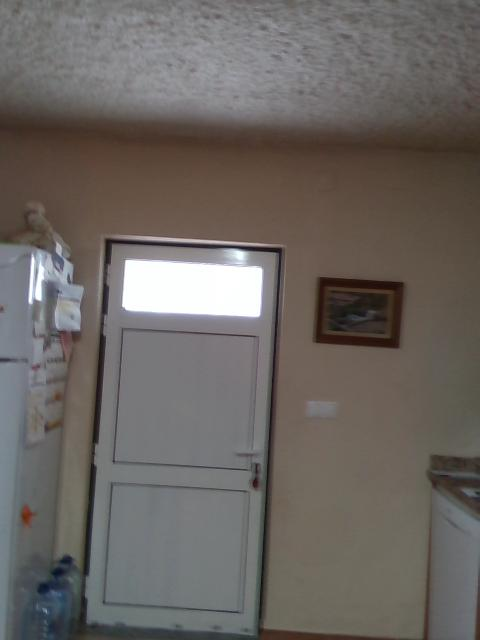door: (85, 239, 282, 639)
